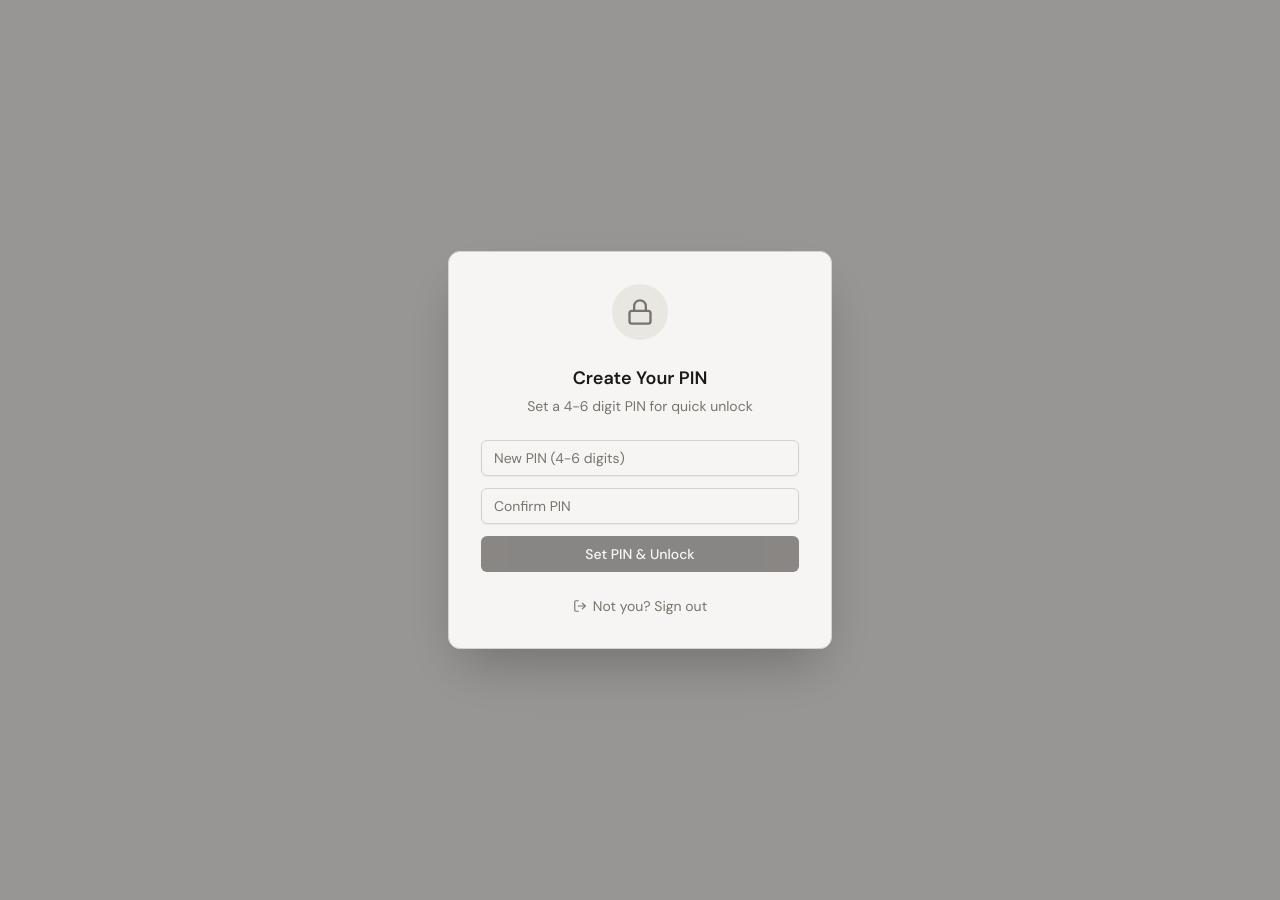
Test case: LockScreen › setup mode rejects mismatched PINs
Step 1. Type "5739" into the password field with placeholder "New PIN (4-6 digits)" → coordinates (640, 458), box [481, 440, 799, 476]
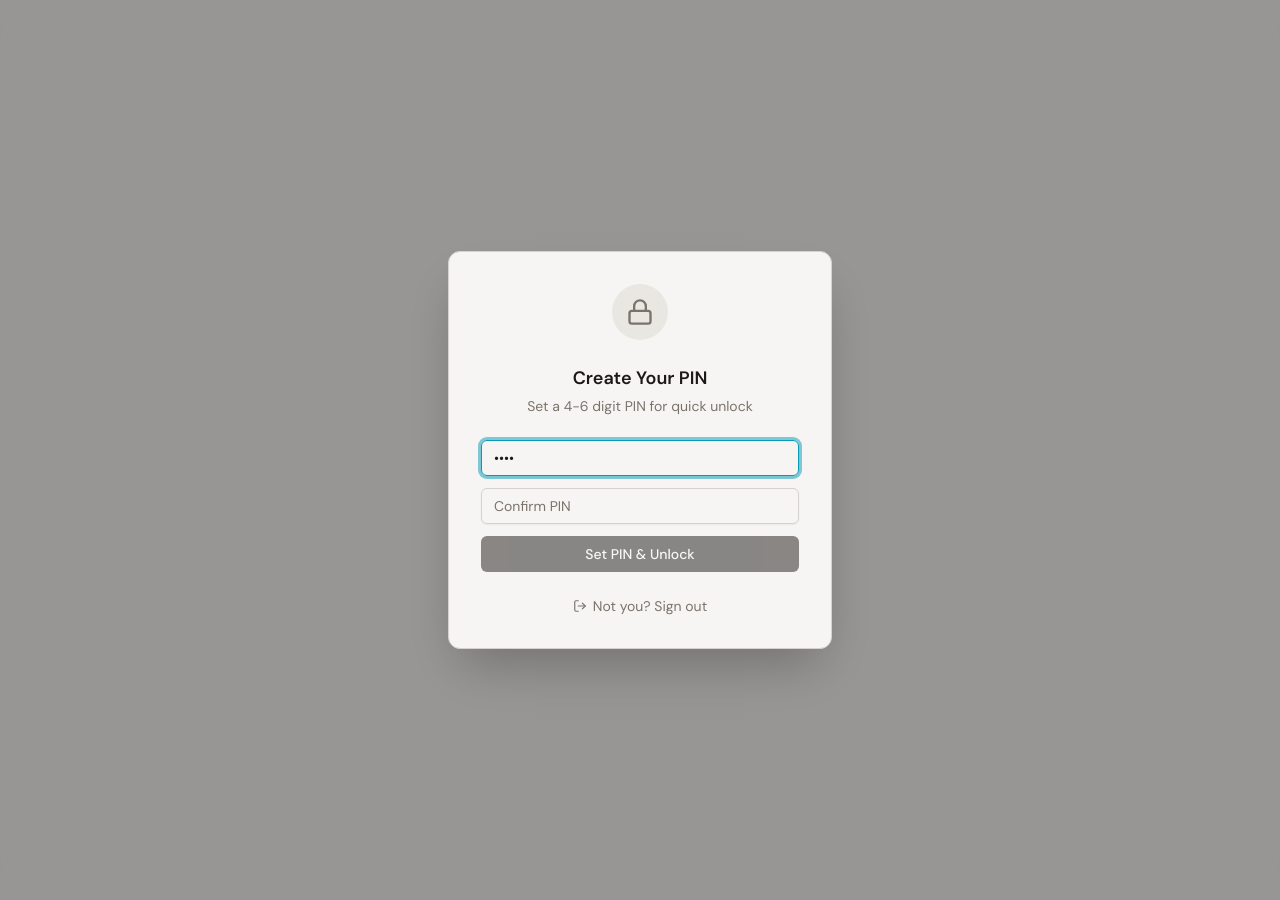
Step 2. Type "9999" into the password field with placeholder "Confirm PIN" → coordinates (640, 506), box [481, 488, 799, 524]
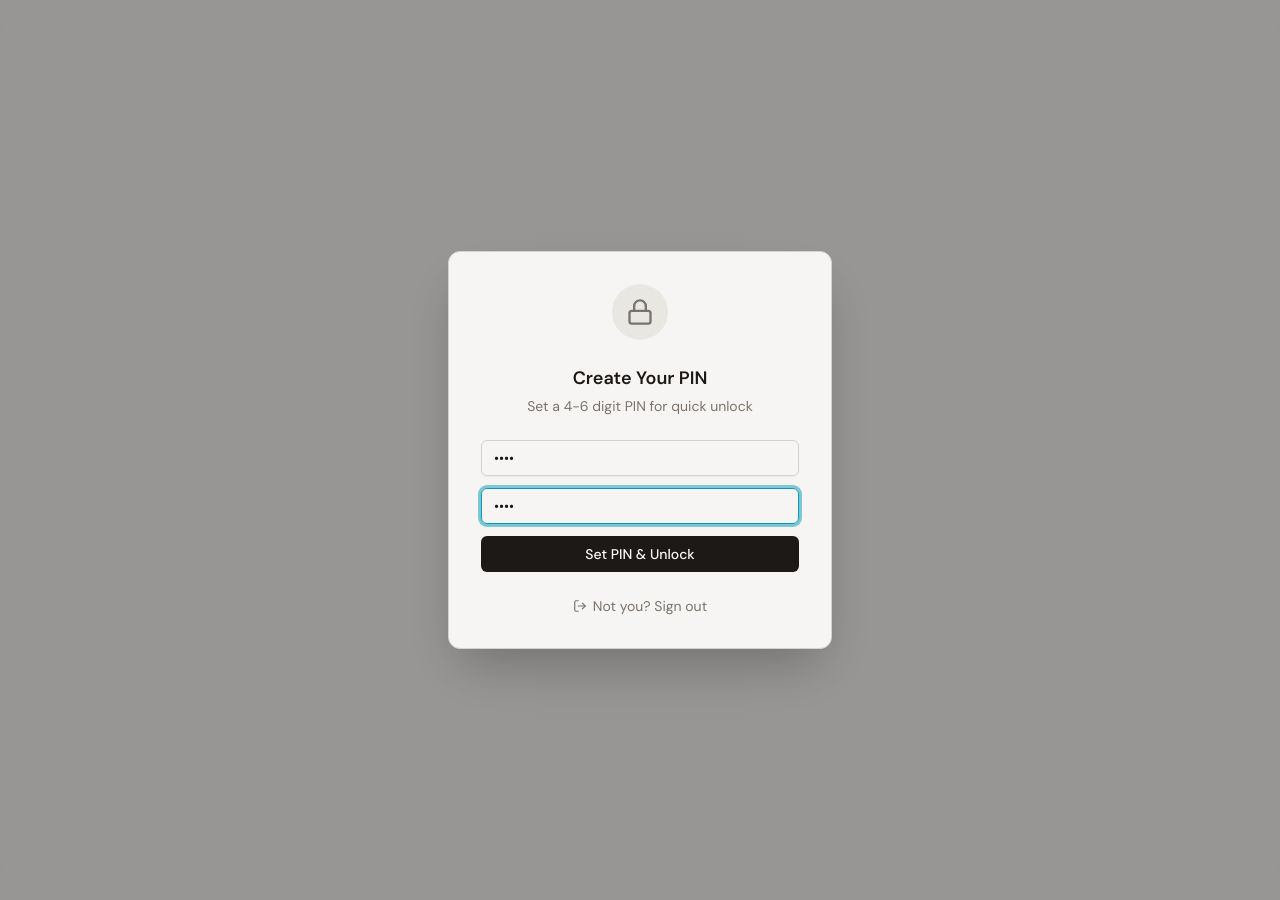
Step 3. Click the button "Set PIN & Unlock" → coordinates (640, 554), box [481, 536, 799, 572]
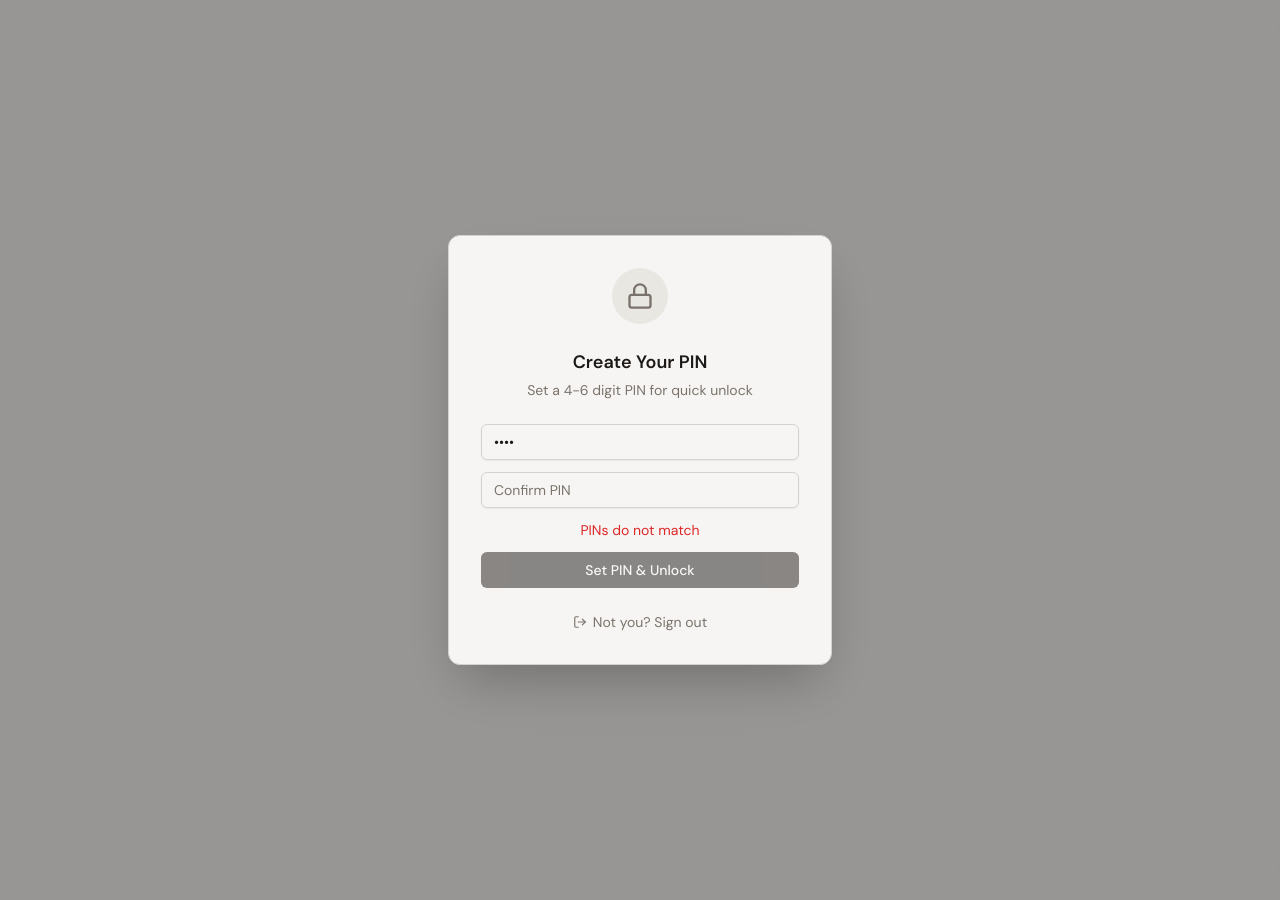
Expected: the text "PINs do not match" is shown, [580, 521, 700, 539]
